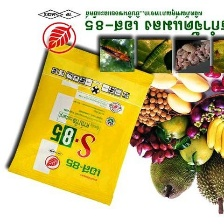insecticide: (2, 33, 159, 212)
